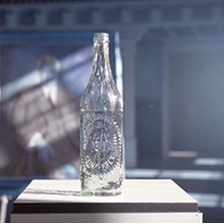bottle: (77, 30, 129, 198)
